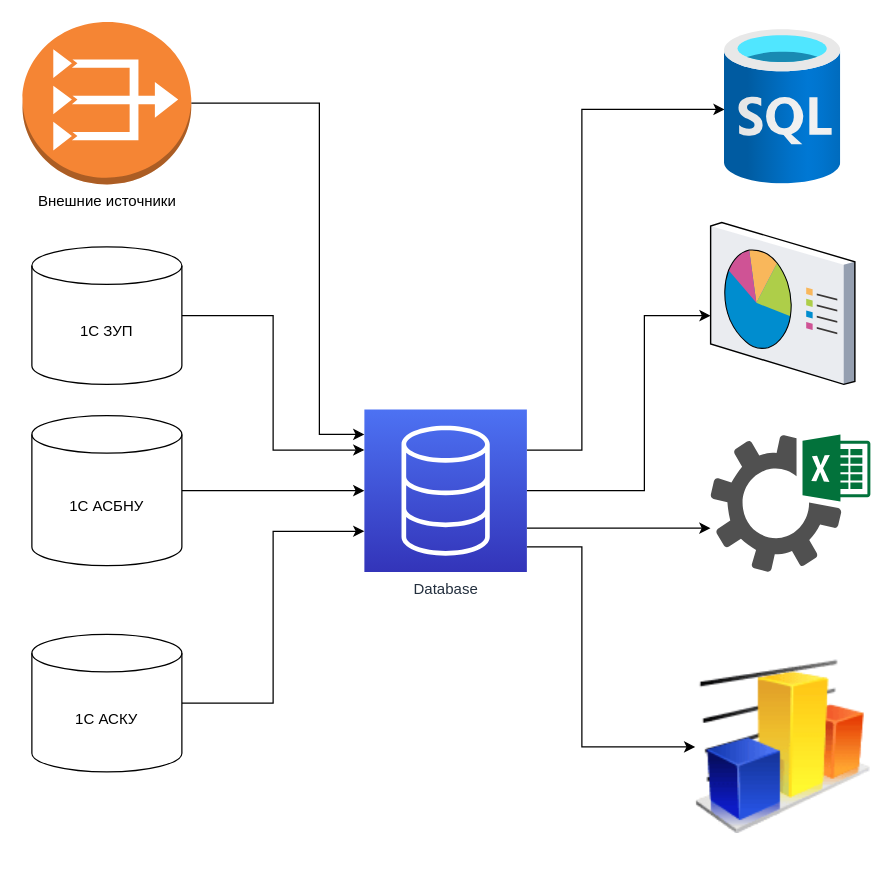
Some shapes in this 891 by 883 pixel diagram are drawn without their labels. The shapes that lost their labels are listed below. From the top down, each one's centre as x and y in pixels, then its label:
At (x=782, y=303): "Python".
At (x=782, y=746): "BI".
